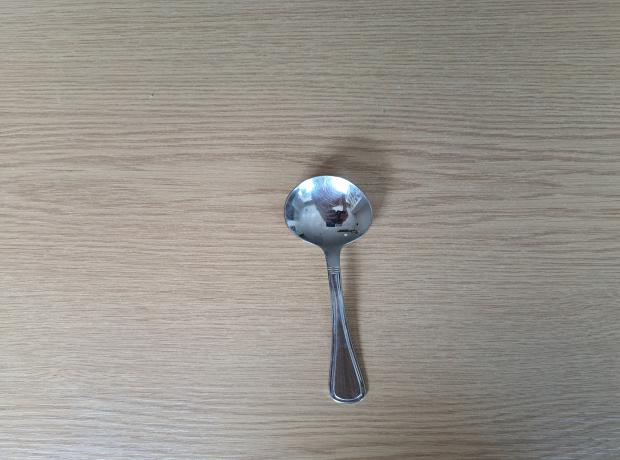metal: (277, 175, 370, 404)
